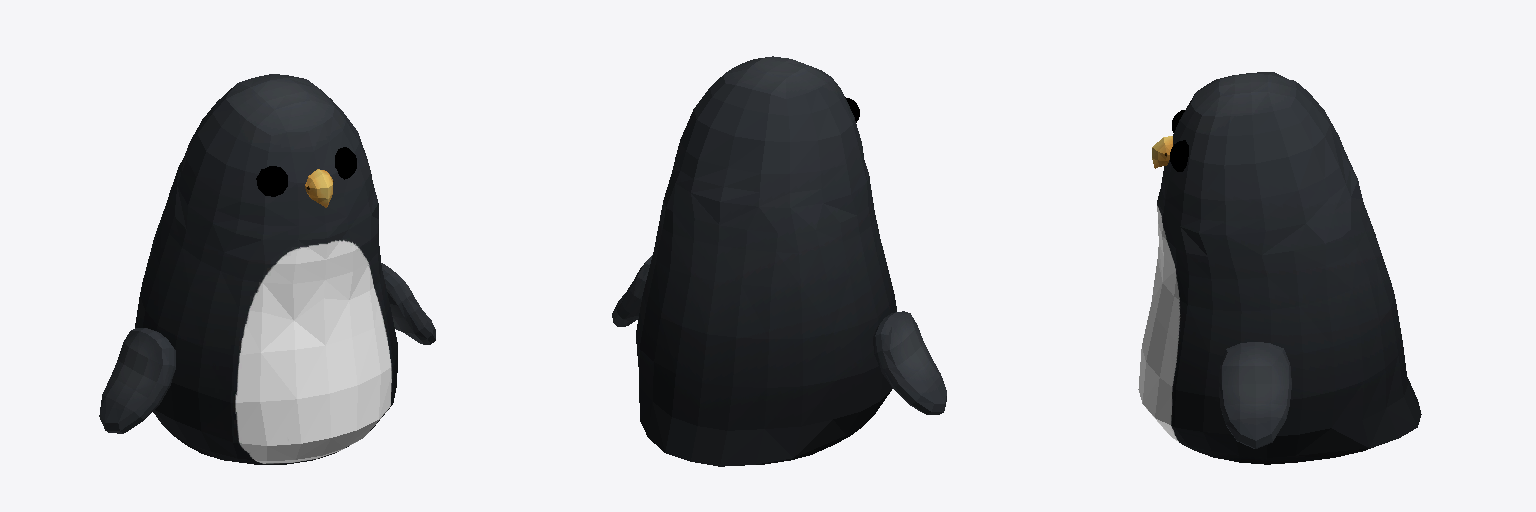
The picture shows the model from 3 angles: view 1: azimuth 30°, elevation 25°; view 2: azimuth 150°, elevation 25°; view 3: azimuth 270°, elevation 25°; orthographic projection.
Parts seen in each view (by area): view 1: Penguin1:RoadKillOut; view 2: Penguin1:RoadKillOut; view 3: Penguin1:RoadKillOut.
Part boxes in pixels (bbox=[...]): Penguin1:RoadKillOut: bbox=[99, 74, 435, 464]; Penguin1:RoadKillOut: bbox=[612, 56, 946, 466]; Penguin1:RoadKillOut: bbox=[1138, 72, 1421, 464].
Size of the model in its own units: 1.01 by 1.04 by 0.7521.
Materials: 1 (1 with a texture image).